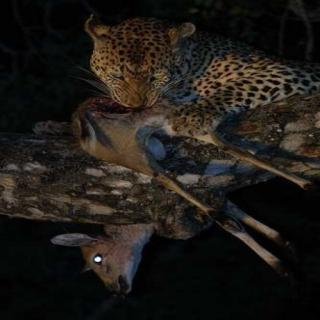Leopard: (69, 27, 320, 186)
